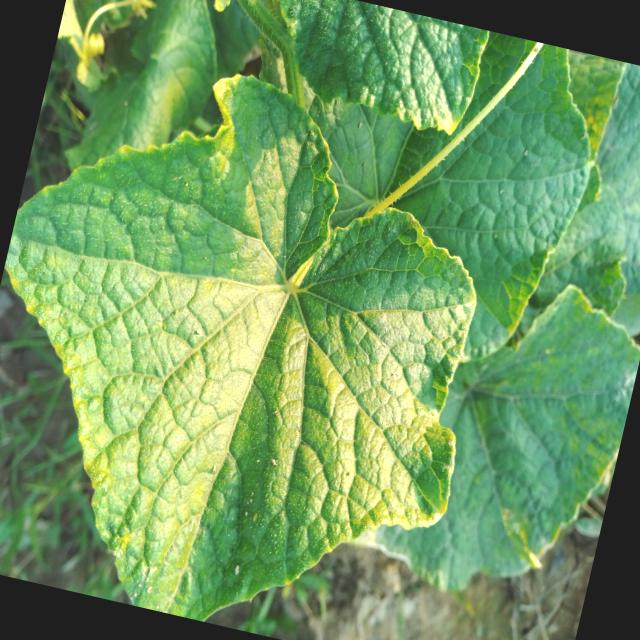cucumber_healthy: (0, 27, 537, 640), (372, 254, 640, 629), (56, 0, 245, 201), (530, 53, 640, 326)
